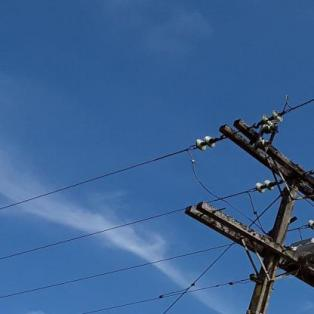Poste: (152, 162, 310, 314)
